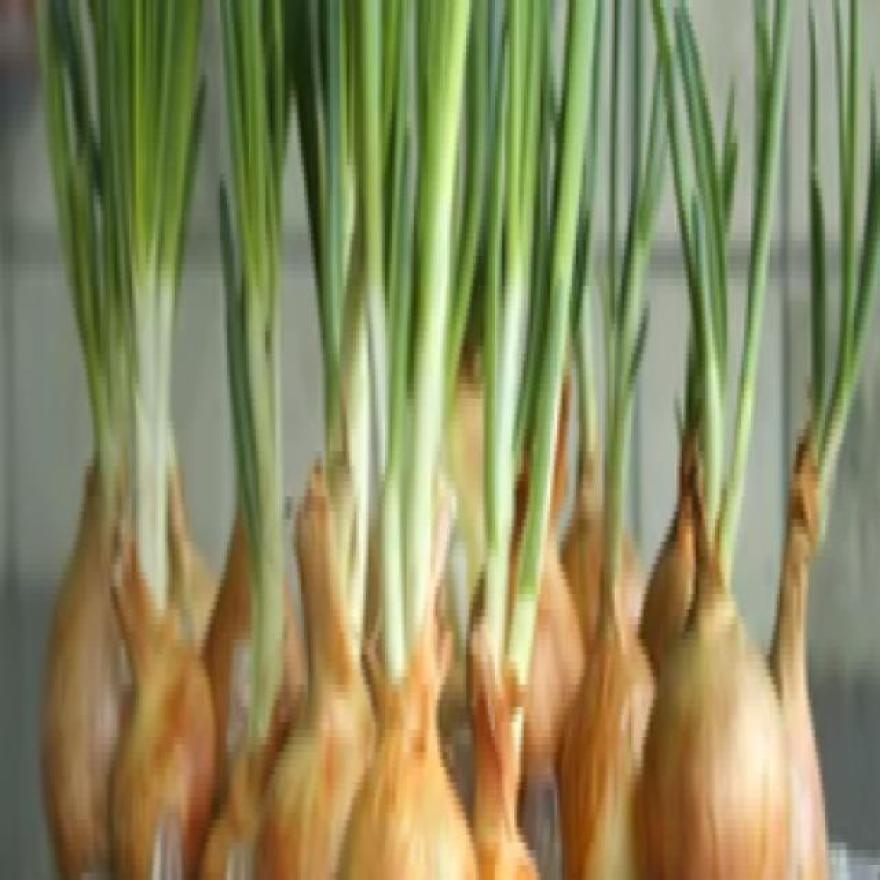Sprouted: (76, 316, 182, 602), (366, 324, 440, 654), (303, 232, 354, 670), (234, 466, 296, 752), (779, 361, 839, 632), (674, 413, 744, 632)
